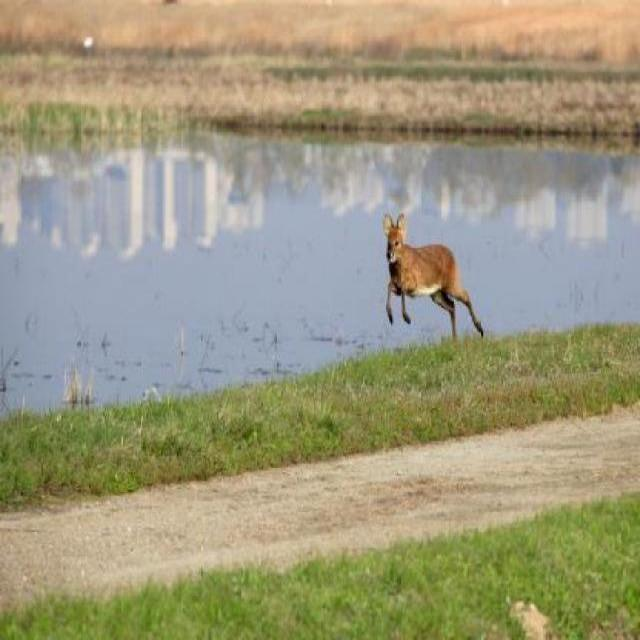deer: (381, 208, 490, 348)
